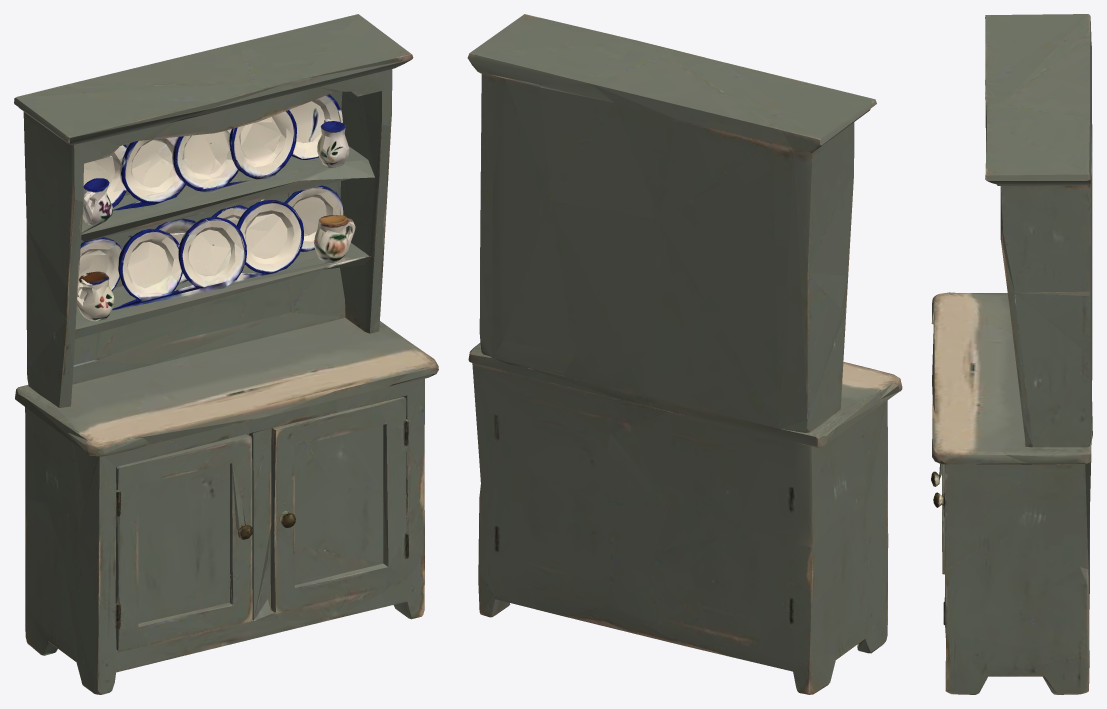
File: kitchen_hutch.glb
3 renders of one model, left to right at view 1: azimuth 30°, elevation 25°; view 2: azimuth 150°, elevation 25°; view 3: azimuth 270°, elevation 25°, orthographic. The views are drawn at different scales.
Parts seen in each view (by area): view 1: Mesh_0; view 2: Mesh_0; view 3: Mesh_0.
Boxes of the visible parts, bbox=[...] form: Mesh_0: bbox=[14, 14, 438, 694]; Mesh_0: bbox=[467, 14, 902, 694]; Mesh_0: bbox=[931, 14, 1092, 694].
Bounding box in the file's own units: 1.27 × 1.9 × 0.5309.
Materials: 1 (1 with a texture image).
